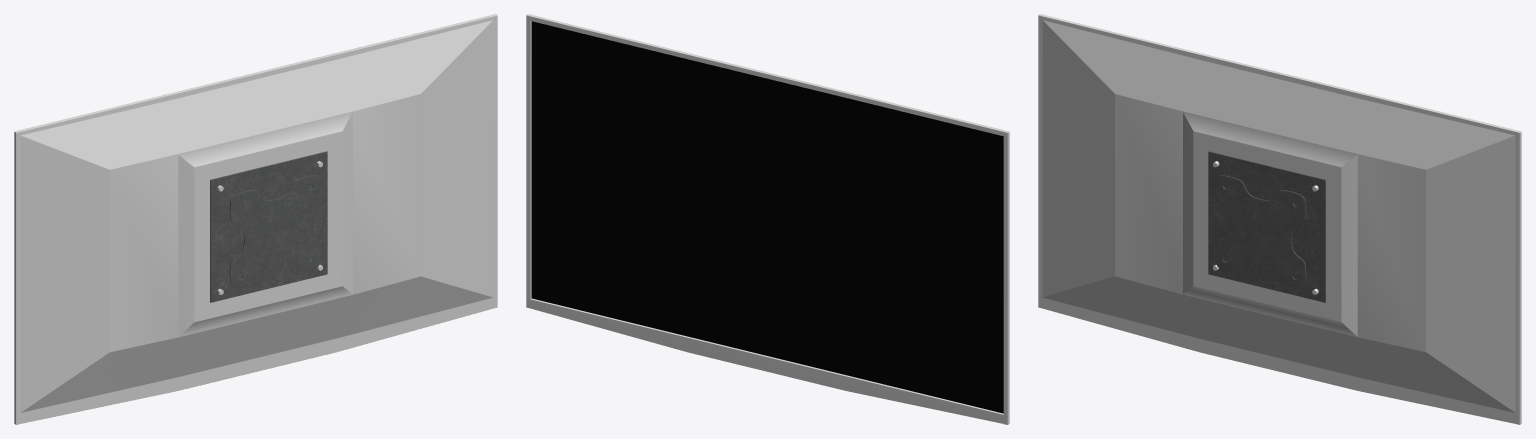
The model's file is MOD_ART_ThreeRooms.fbx_Wall_TV_60_.fbx.
3 renders of one model, left to right at view 1: azimuth 30°, elevation 25°; view 2: azimuth 150°, elevation 25°; view 3: azimuth 330°, elevation 25°, orthographic.
Parts seen in each view (by area): view 1: Plane.082; view 2: Plane.082; view 3: Plane.082.
Boxes of the visible parts, x1,y1,x2,y2 form: Plane.082: [14, 14, 497, 424]; Plane.082: [526, 14, 1009, 424]; Plane.082: [1038, 14, 1521, 424].
Size of the model in its own units: 135 by 79.92 by 10.08.
5 materials, 1 textured.
